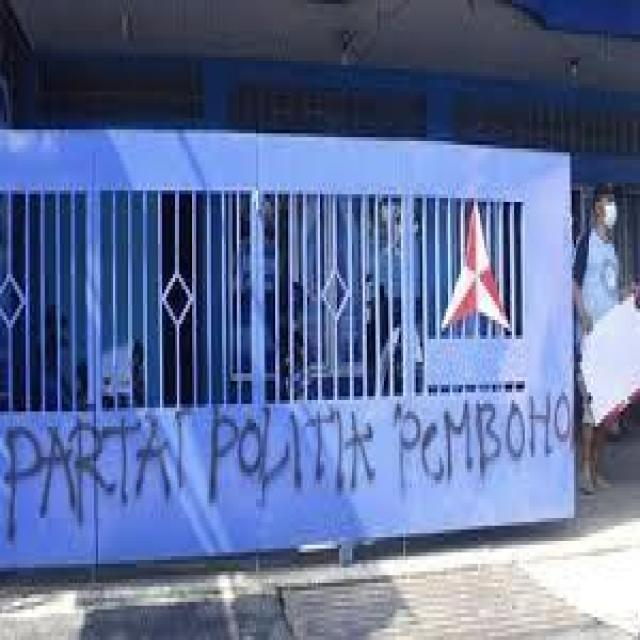nonspitting: (4, 412, 377, 547), (394, 396, 572, 491)
